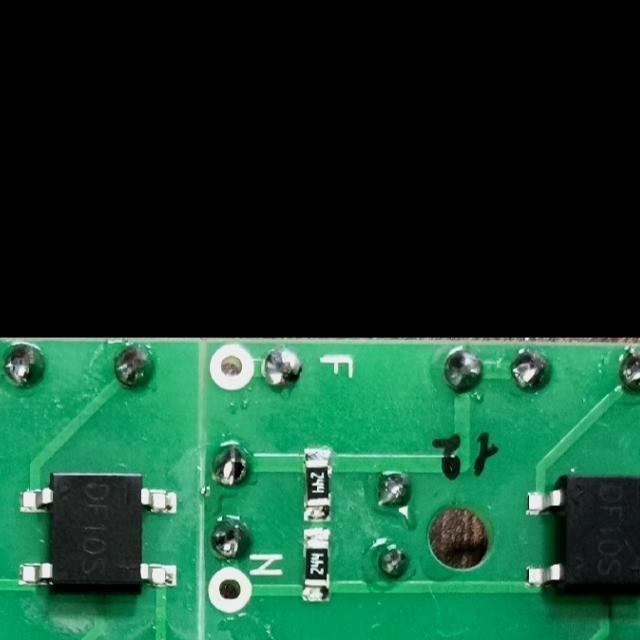chip-resistor: (300, 526, 331, 603), (301, 446, 332, 522)
ic: (16, 468, 179, 592), (522, 473, 640, 596)
